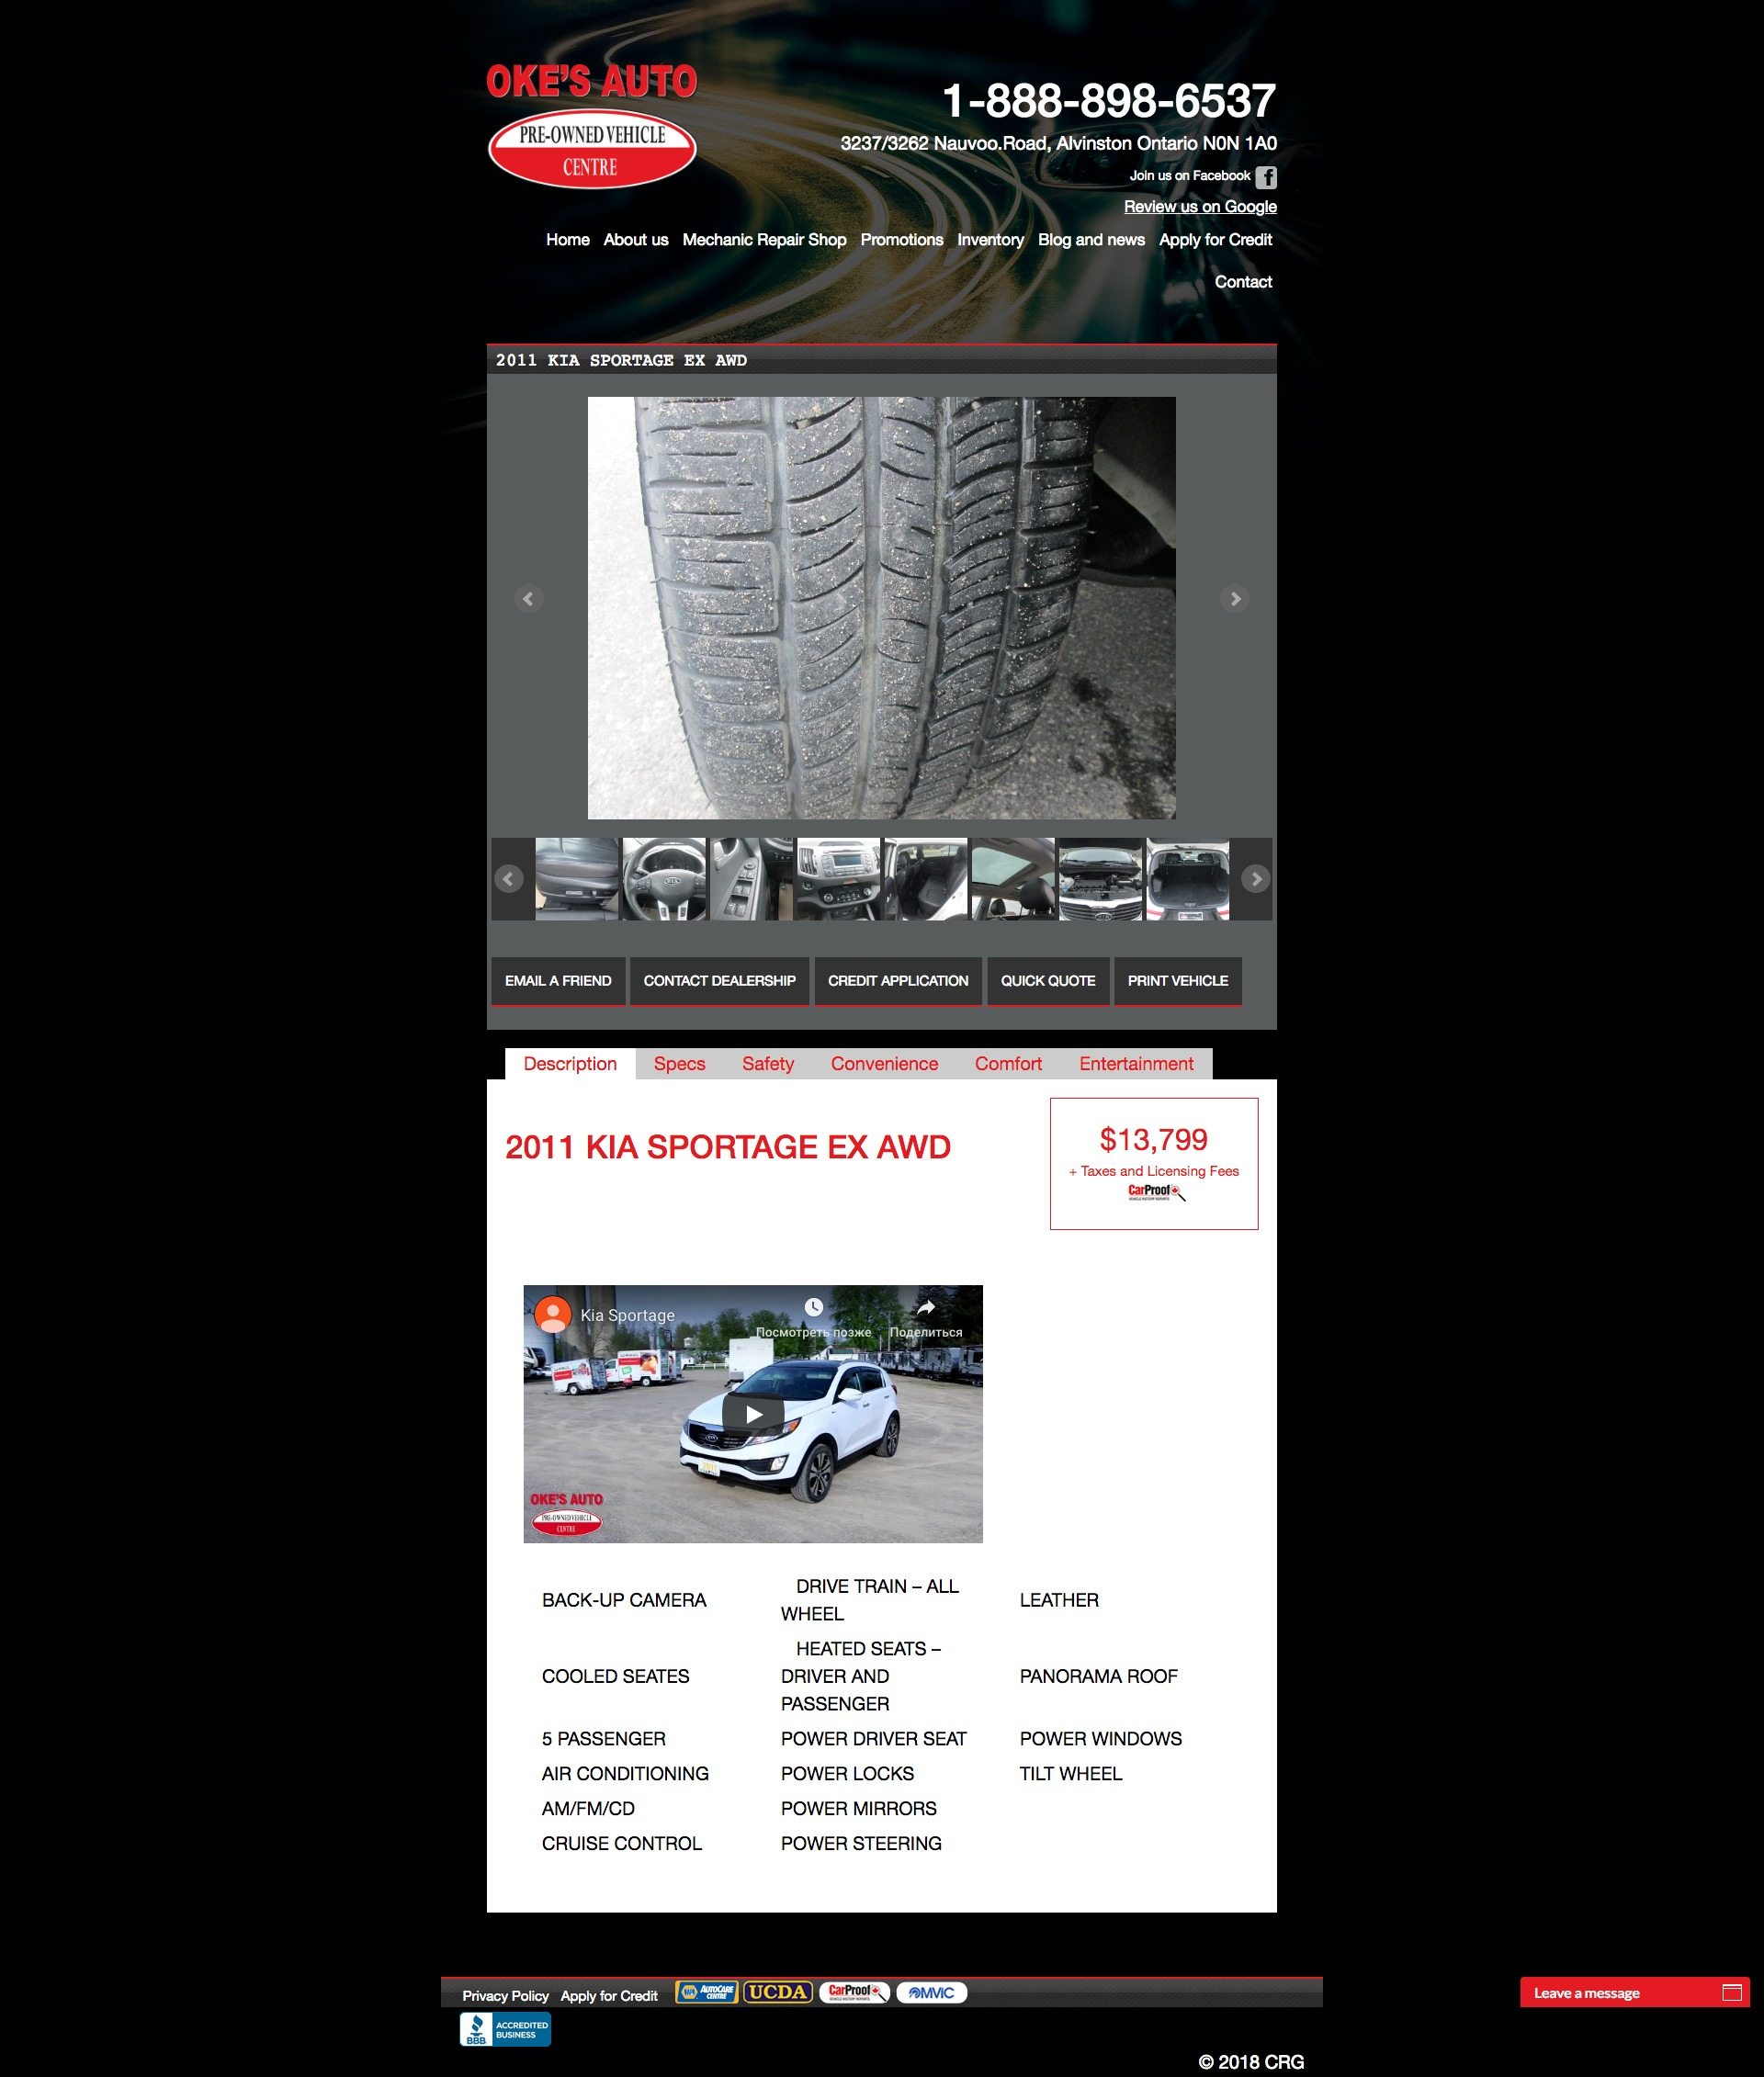car: (1241, 864, 1272, 894)
